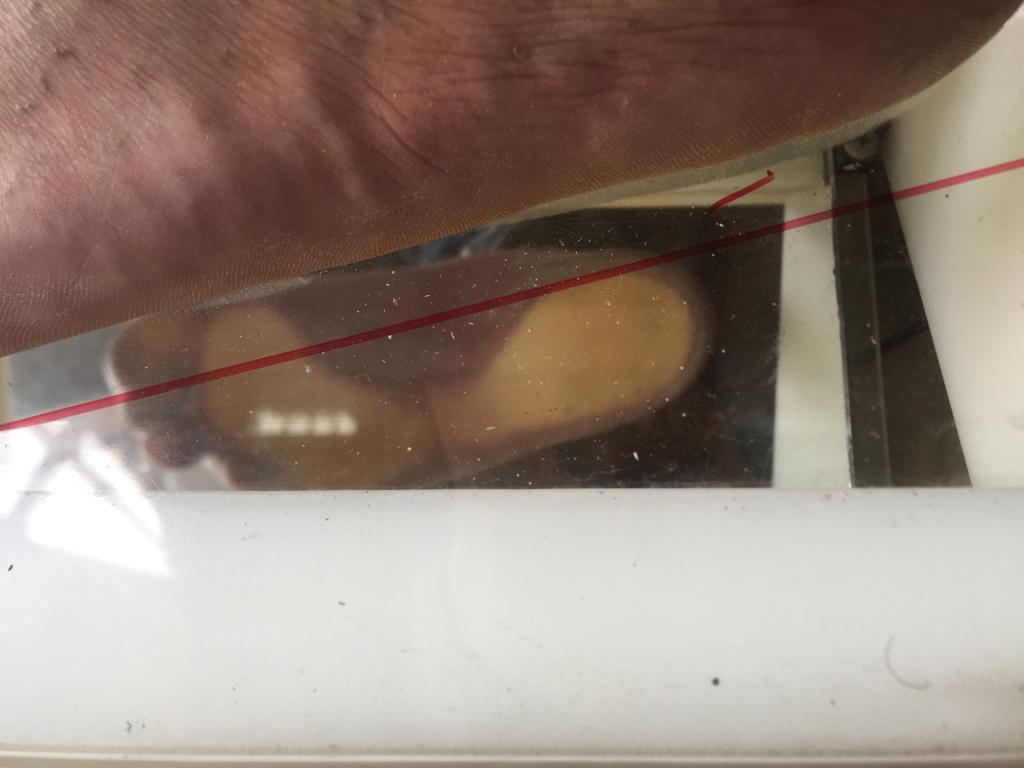Present: (102, 232, 732, 488)
